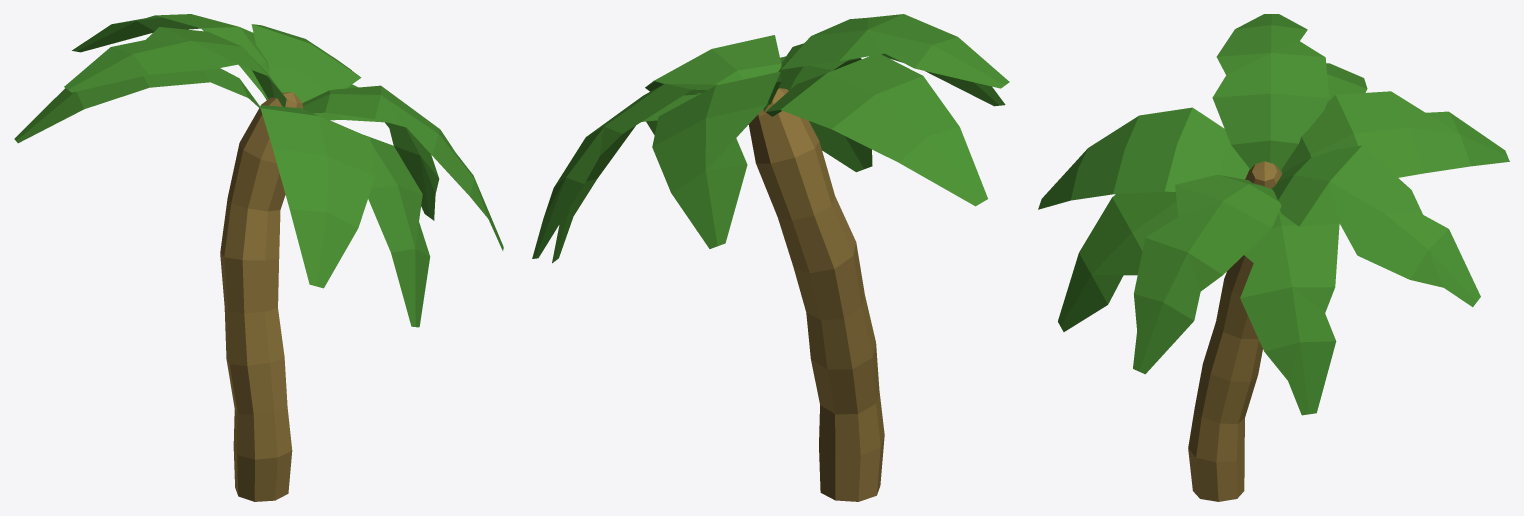
Rendered from PalmTree_5.fbx.
The picture shows the model from 3 angles, left to right: view 1: azimuth 30°, elevation 25°; view 2: azimuth 150°, elevation 25°; view 3: azimuth 270°, elevation 25°; orthographic projection. The views are drawn at different scales.
Visible parts, largest first — view 1: Trunk, Leaf_1, Leaf_3.001, Leaf_2.001, Leaf_4, Leaf_4.002, Leaf_1.001, Leaf_1.002, Leaf_2, Leaf_4.001, Leaf_4.003, Leaf_2.003 (+4 smaller); view 2: Trunk, Leaf_1.001, Leaf_2, Leaf_3.001, Leaf_4.002, Leaf_1.003, Leaf_4, Leaf_2.002, Leaf_4.001, Leaf_2.001, Leaf_1, Leaf_4.003 (+2 smaller); view 3: Leaf_4.002, Leaf_4, Leaf_4.001, Trunk, Leaf_1, Leaf_2, Leaf_2.001, Leaf_3.001, Leaf_3, Leaf_4.005, Leaf_4.003, Leaf_4.004 (+4 smaller).
Boxes of the visible parts, bbox=[...] form: Trunk: bbox=[220, 92, 302, 501]; Leaf_1: bbox=[260, 105, 375, 288]; Leaf_3.001: bbox=[64, 27, 286, 106]; Leaf_2.001: bbox=[326, 119, 430, 327]; Leaf_4: bbox=[302, 85, 503, 250]; Leaf_4.002: bbox=[251, 24, 361, 102]; Leaf_1.001: bbox=[14, 68, 260, 143]; Leaf_1.002: bbox=[261, 105, 374, 287]; Leaf_2: bbox=[72, 14, 269, 99]; Leaf_4.001: bbox=[313, 84, 439, 220]; Leaf_4.003: bbox=[253, 25, 360, 101]; Leaf_2.003: bbox=[334, 122, 428, 326]; Trunk: bbox=[748, 88, 884, 501]; Leaf_1.001: bbox=[766, 54, 987, 206]; Leaf_2: bbox=[652, 71, 781, 248]; Leaf_3.001: bbox=[763, 14, 1009, 111]; Leaf_4.002: bbox=[532, 83, 718, 258]; Leaf_1.003: bbox=[766, 57, 986, 205]; Leaf_4: bbox=[645, 35, 781, 134]; Leaf_2.002: bbox=[653, 74, 780, 248]; Leaf_4.001: bbox=[552, 94, 698, 262]; Leaf_2.001: bbox=[780, 56, 872, 172]; Leaf_1: bbox=[782, 43, 1005, 106]; Leaf_4.003: bbox=[534, 84, 715, 257]; Leaf_4.002: bbox=[1272, 145, 1480, 307]; Leaf_4: bbox=[1133, 174, 1281, 374]; Leaf_4.001: bbox=[1240, 210, 1339, 415]; Trunk: bbox=[1188, 161, 1281, 501]; Leaf_1: bbox=[1038, 107, 1249, 209]; Leaf_2: bbox=[1281, 91, 1509, 177]; Leaf_2.001: bbox=[1058, 191, 1177, 331]; Leaf_3.001: bbox=[1212, 14, 1328, 98]; Leaf_3: bbox=[1212, 93, 1328, 173]; Leaf_4.005: bbox=[1134, 175, 1279, 372]; Leaf_4.003: bbox=[1273, 147, 1476, 303]; Leaf_4.004: bbox=[1241, 213, 1338, 412].
Bounding box in the file's own units: 375 × 396 × 404.
